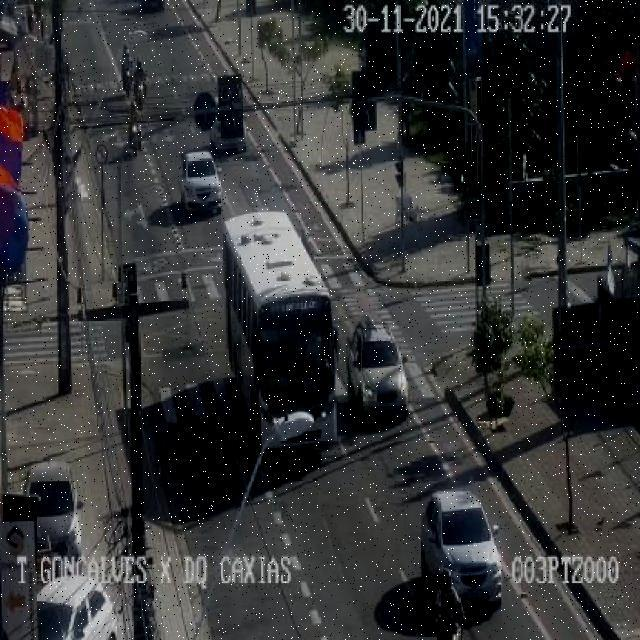bus: (224, 211, 336, 448)
car: (421, 491, 501, 602), (348, 318, 408, 419), (38, 578, 118, 640), (29, 461, 79, 554), (181, 151, 222, 212)
motorcyclist: (121, 46, 146, 153)
traffic-lights: (475, 244, 491, 286)
